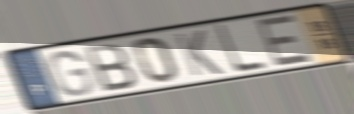0: (131, 36, 181, 84)
B: (81, 41, 140, 93)
E: (255, 12, 316, 69)
G: (46, 49, 96, 98)
K: (172, 29, 225, 79)
L: (213, 23, 269, 76)
